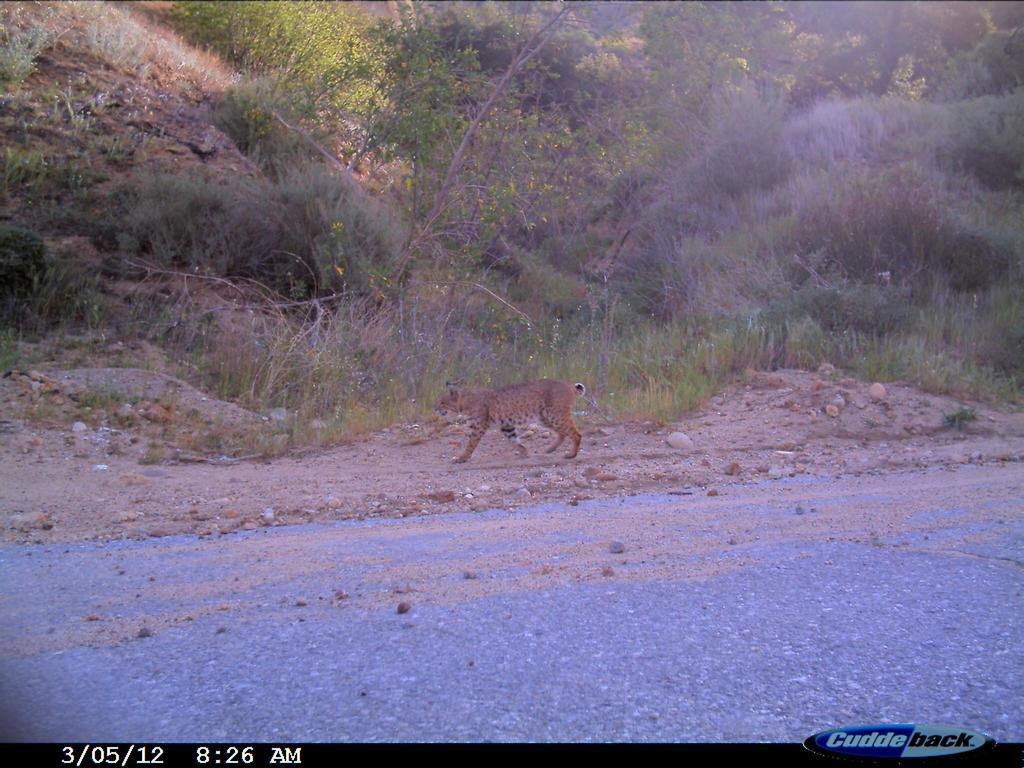bobcat: (429, 374, 594, 473)
